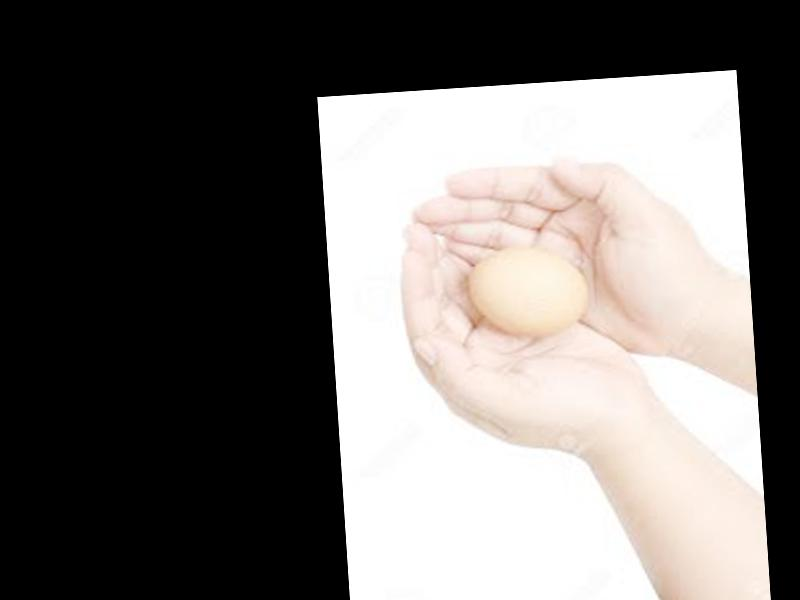Eggs: (470, 245, 588, 340)
